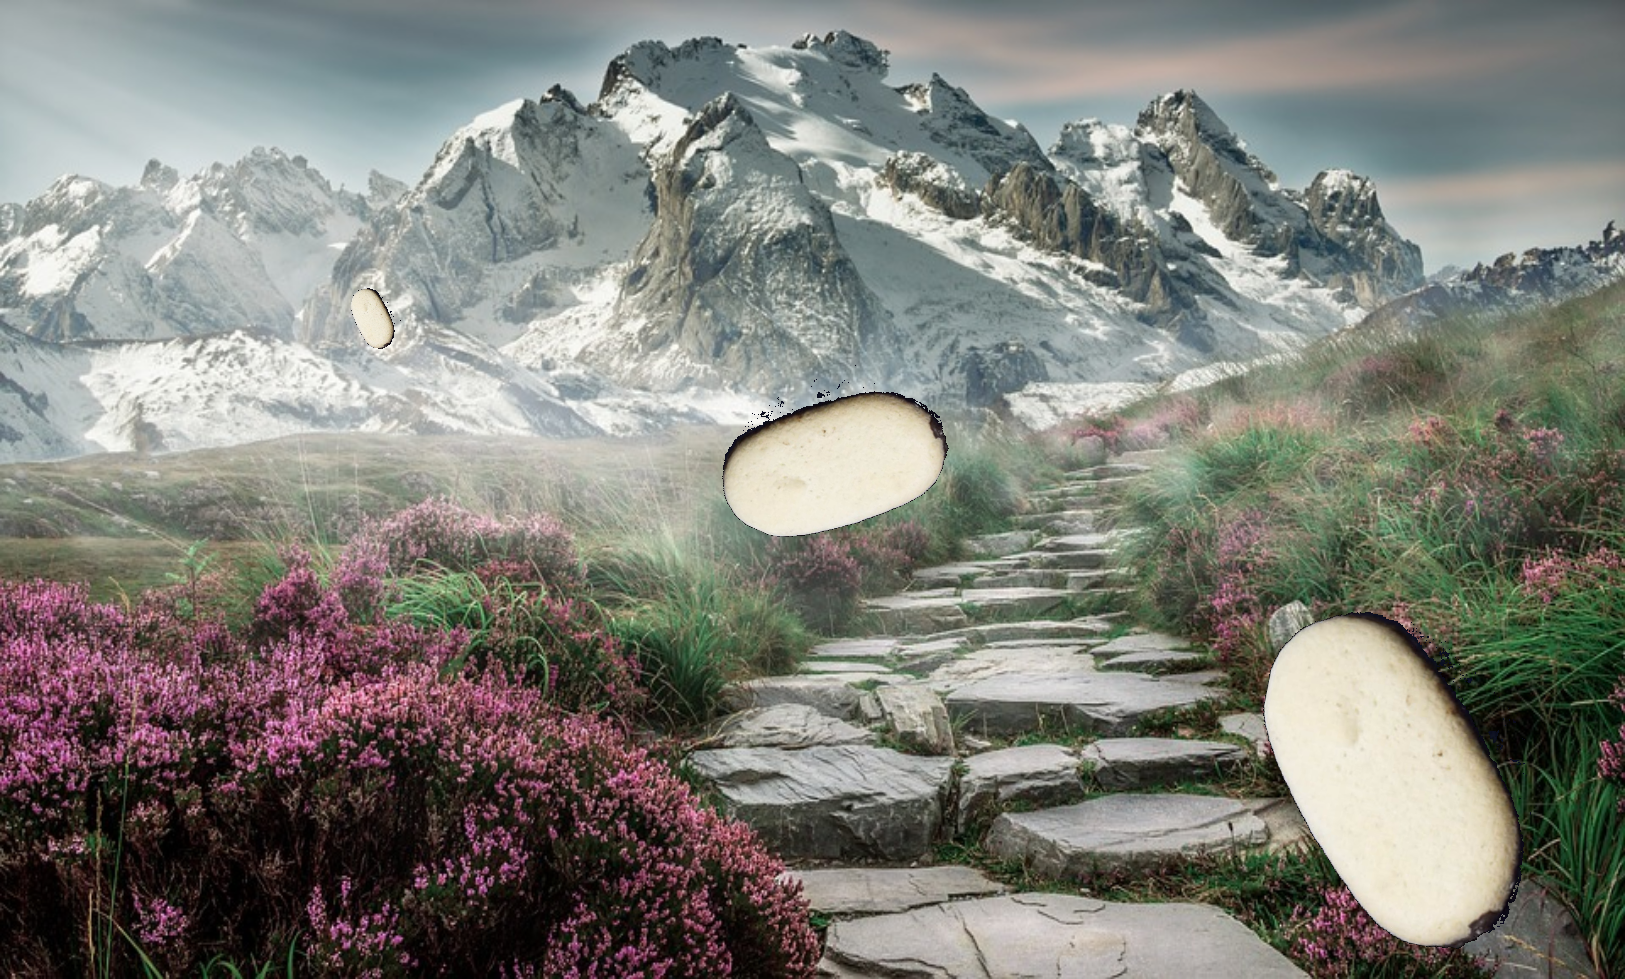test: (1220, 589, 1588, 969), (699, 324, 970, 590), (340, 283, 409, 353)
